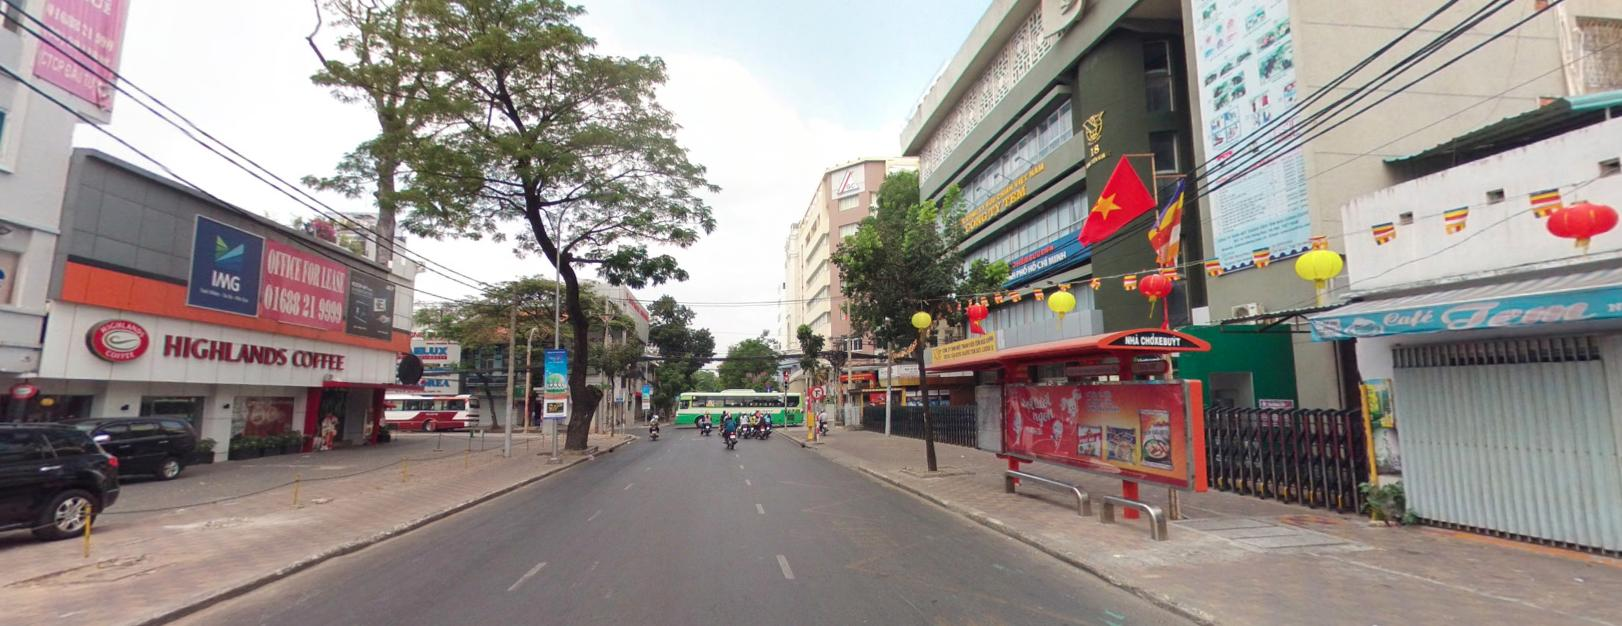Cam dung va do: (765, 380, 770, 385)
Cam re: (810, 384, 822, 397)
